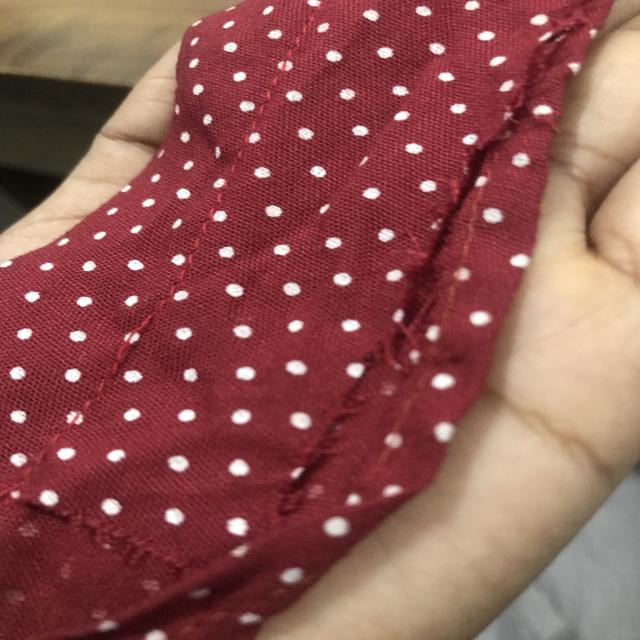skip: (96, 302, 150, 374)
